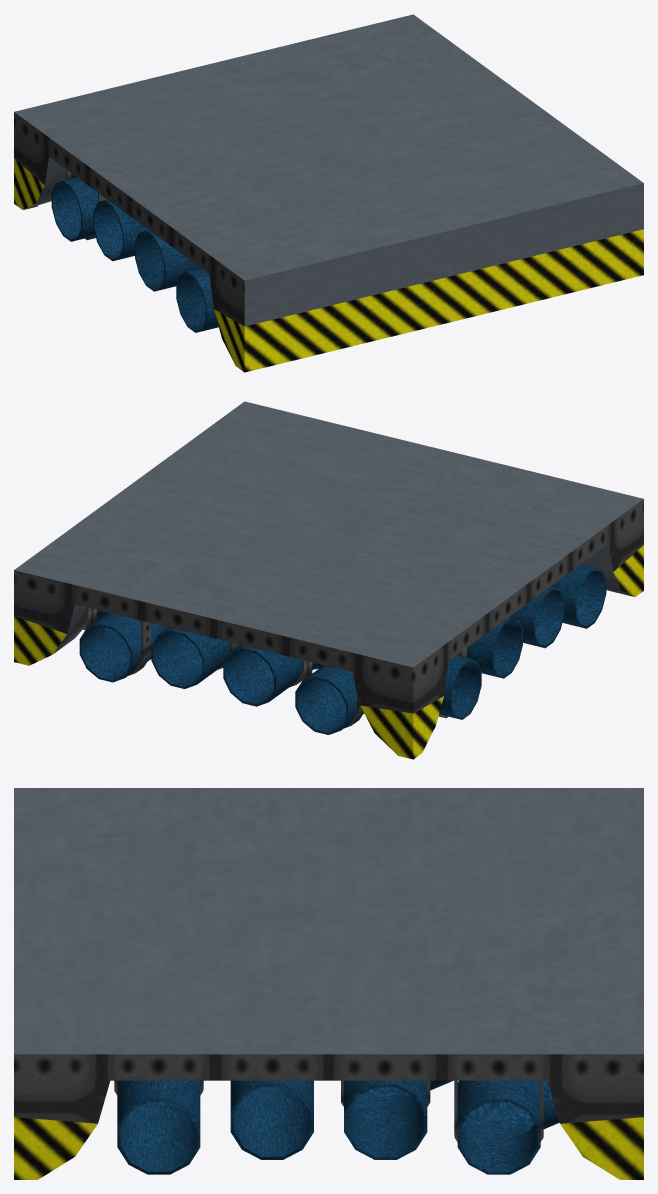
The model's file is CeilingPanels14.fbx.
3 renders of one model, top to bottom at view 1: azimuth 30°, elevation 25°; view 2: azimuth 150°, elevation 25°; view 3: azimuth 270°, elevation 25°, orthographic. The views are drawn at different scales.
Visible parts, largest first — view 1: CeilingPanels14; view 2: CeilingPanels14; view 3: CeilingPanels14.
Part boxes in pixels (x1,y1,x2,y2): CeilingPanels14: (14, 14, 643, 372); CeilingPanels14: (14, 401, 643, 759); CeilingPanels14: (14, 788, 643, 1179).
Bounding box in the file's own units: 200 × 44 × 200.
